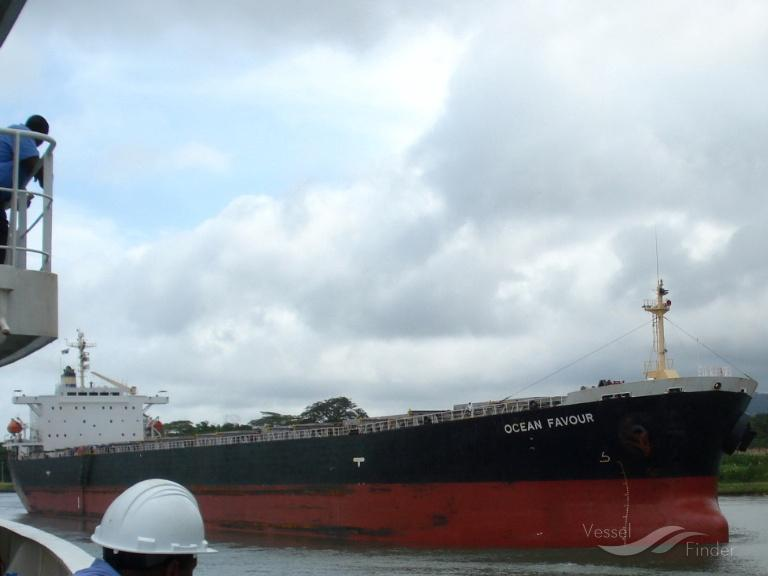OCR: (464, 408, 602, 444)
